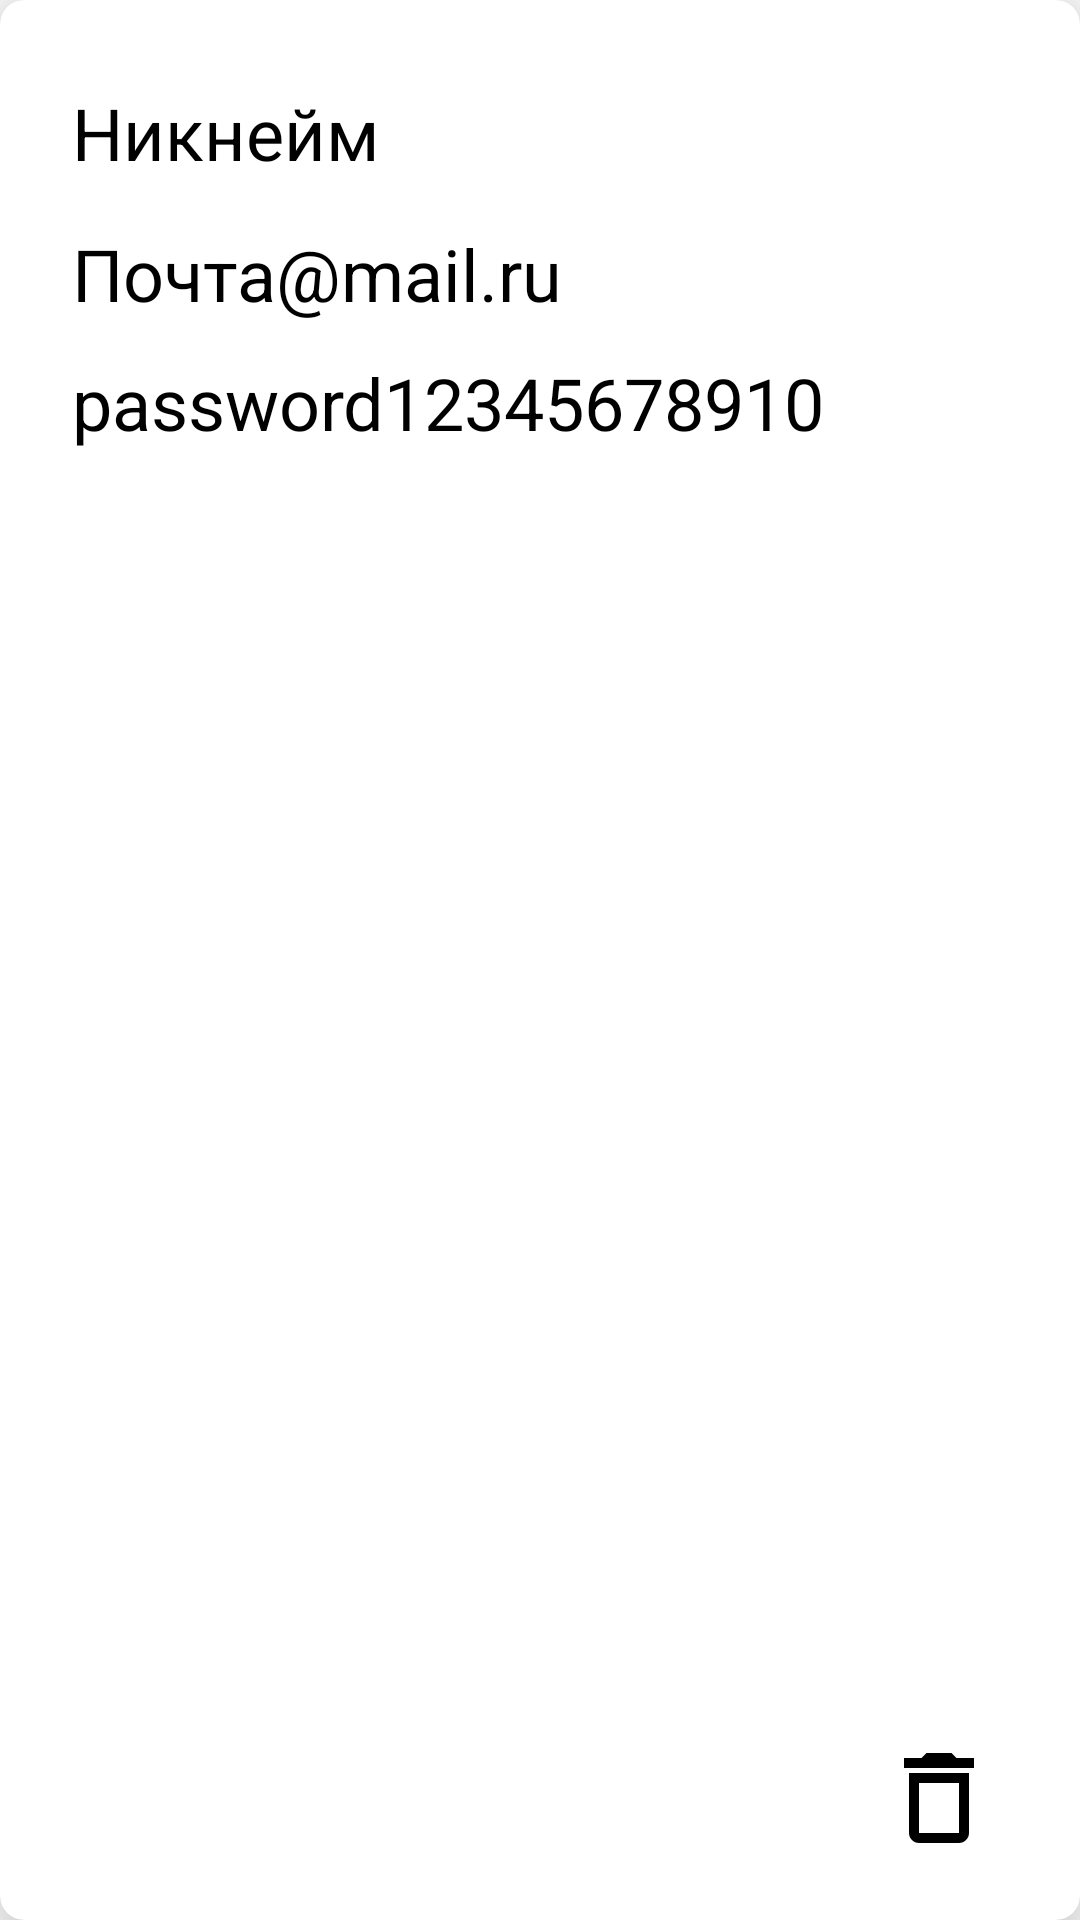

Screen size 1080x1920. Icon name, then its box in pixels as (x1, y1, x2, y2):
delete: (904, 1753, 974, 1843)
